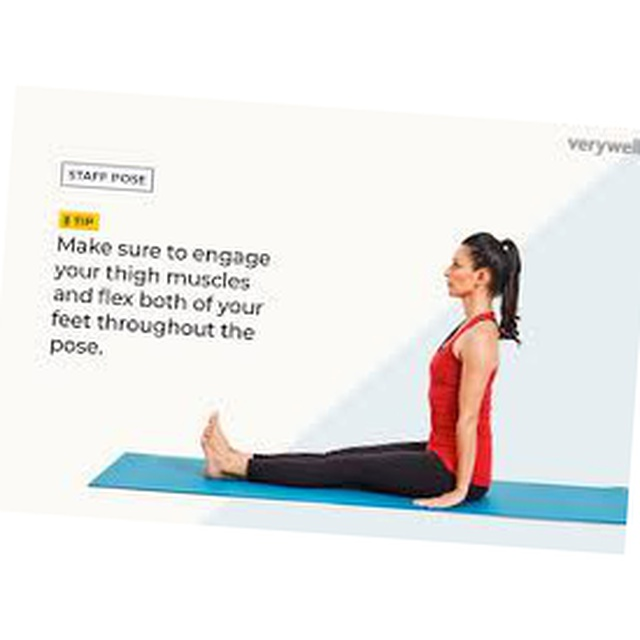Staff_Pose: (200, 232, 523, 509)
